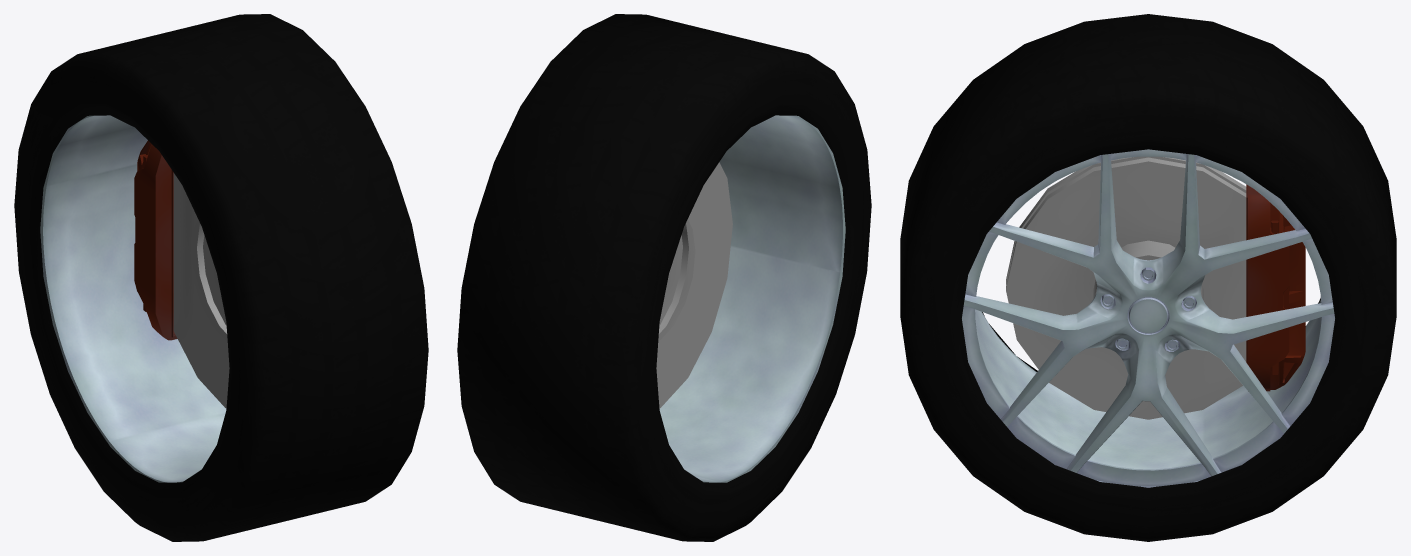
Rendered from turbine-21.glb.
3 renders of one model, left to right at view 1: azimuth 30°, elevation 25°; view 2: azimuth 150°, elevation 25°; view 3: azimuth 270°, elevation 25°, orthographic.
Parts seen in each view (by area): view 1: tire-low_tire-low_0; view 2: tire-low_tire-low_0; view 3: tire-low_tire-low_0.
Part boxes in pixels (<box>): tire-low_tire-low_0: <box>14,14,428,541</box>; tire-low_tire-low_0: <box>457,14,871,541</box>; tire-low_tire-low_0: <box>900,14,1396,541</box>.
Size of the model in its own units: 0.4116 by 1 by 1.
Materials: 2 (2 with a texture image).
